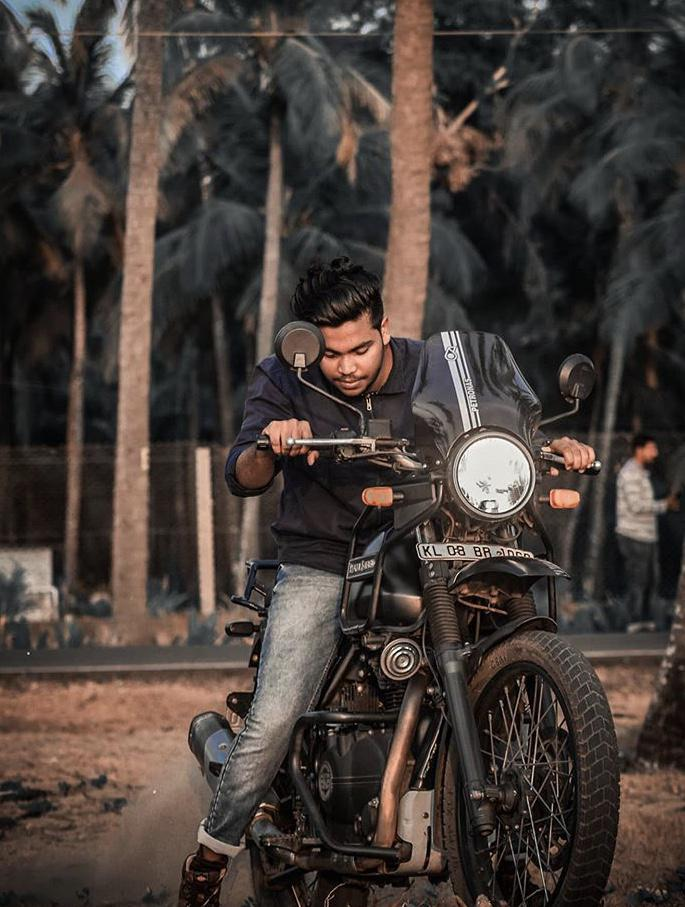nohelmet: (297, 261, 396, 401)
